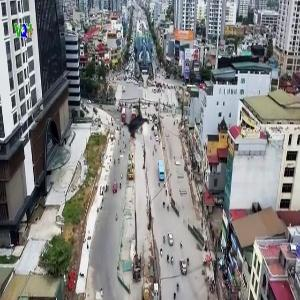drone: (118, 107, 157, 146)
